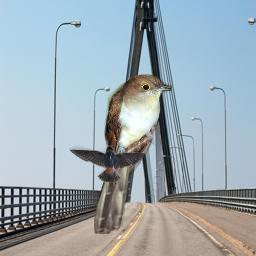Cuckoo: (94, 73, 172, 234)
Swallow: (67, 145, 146, 183)
